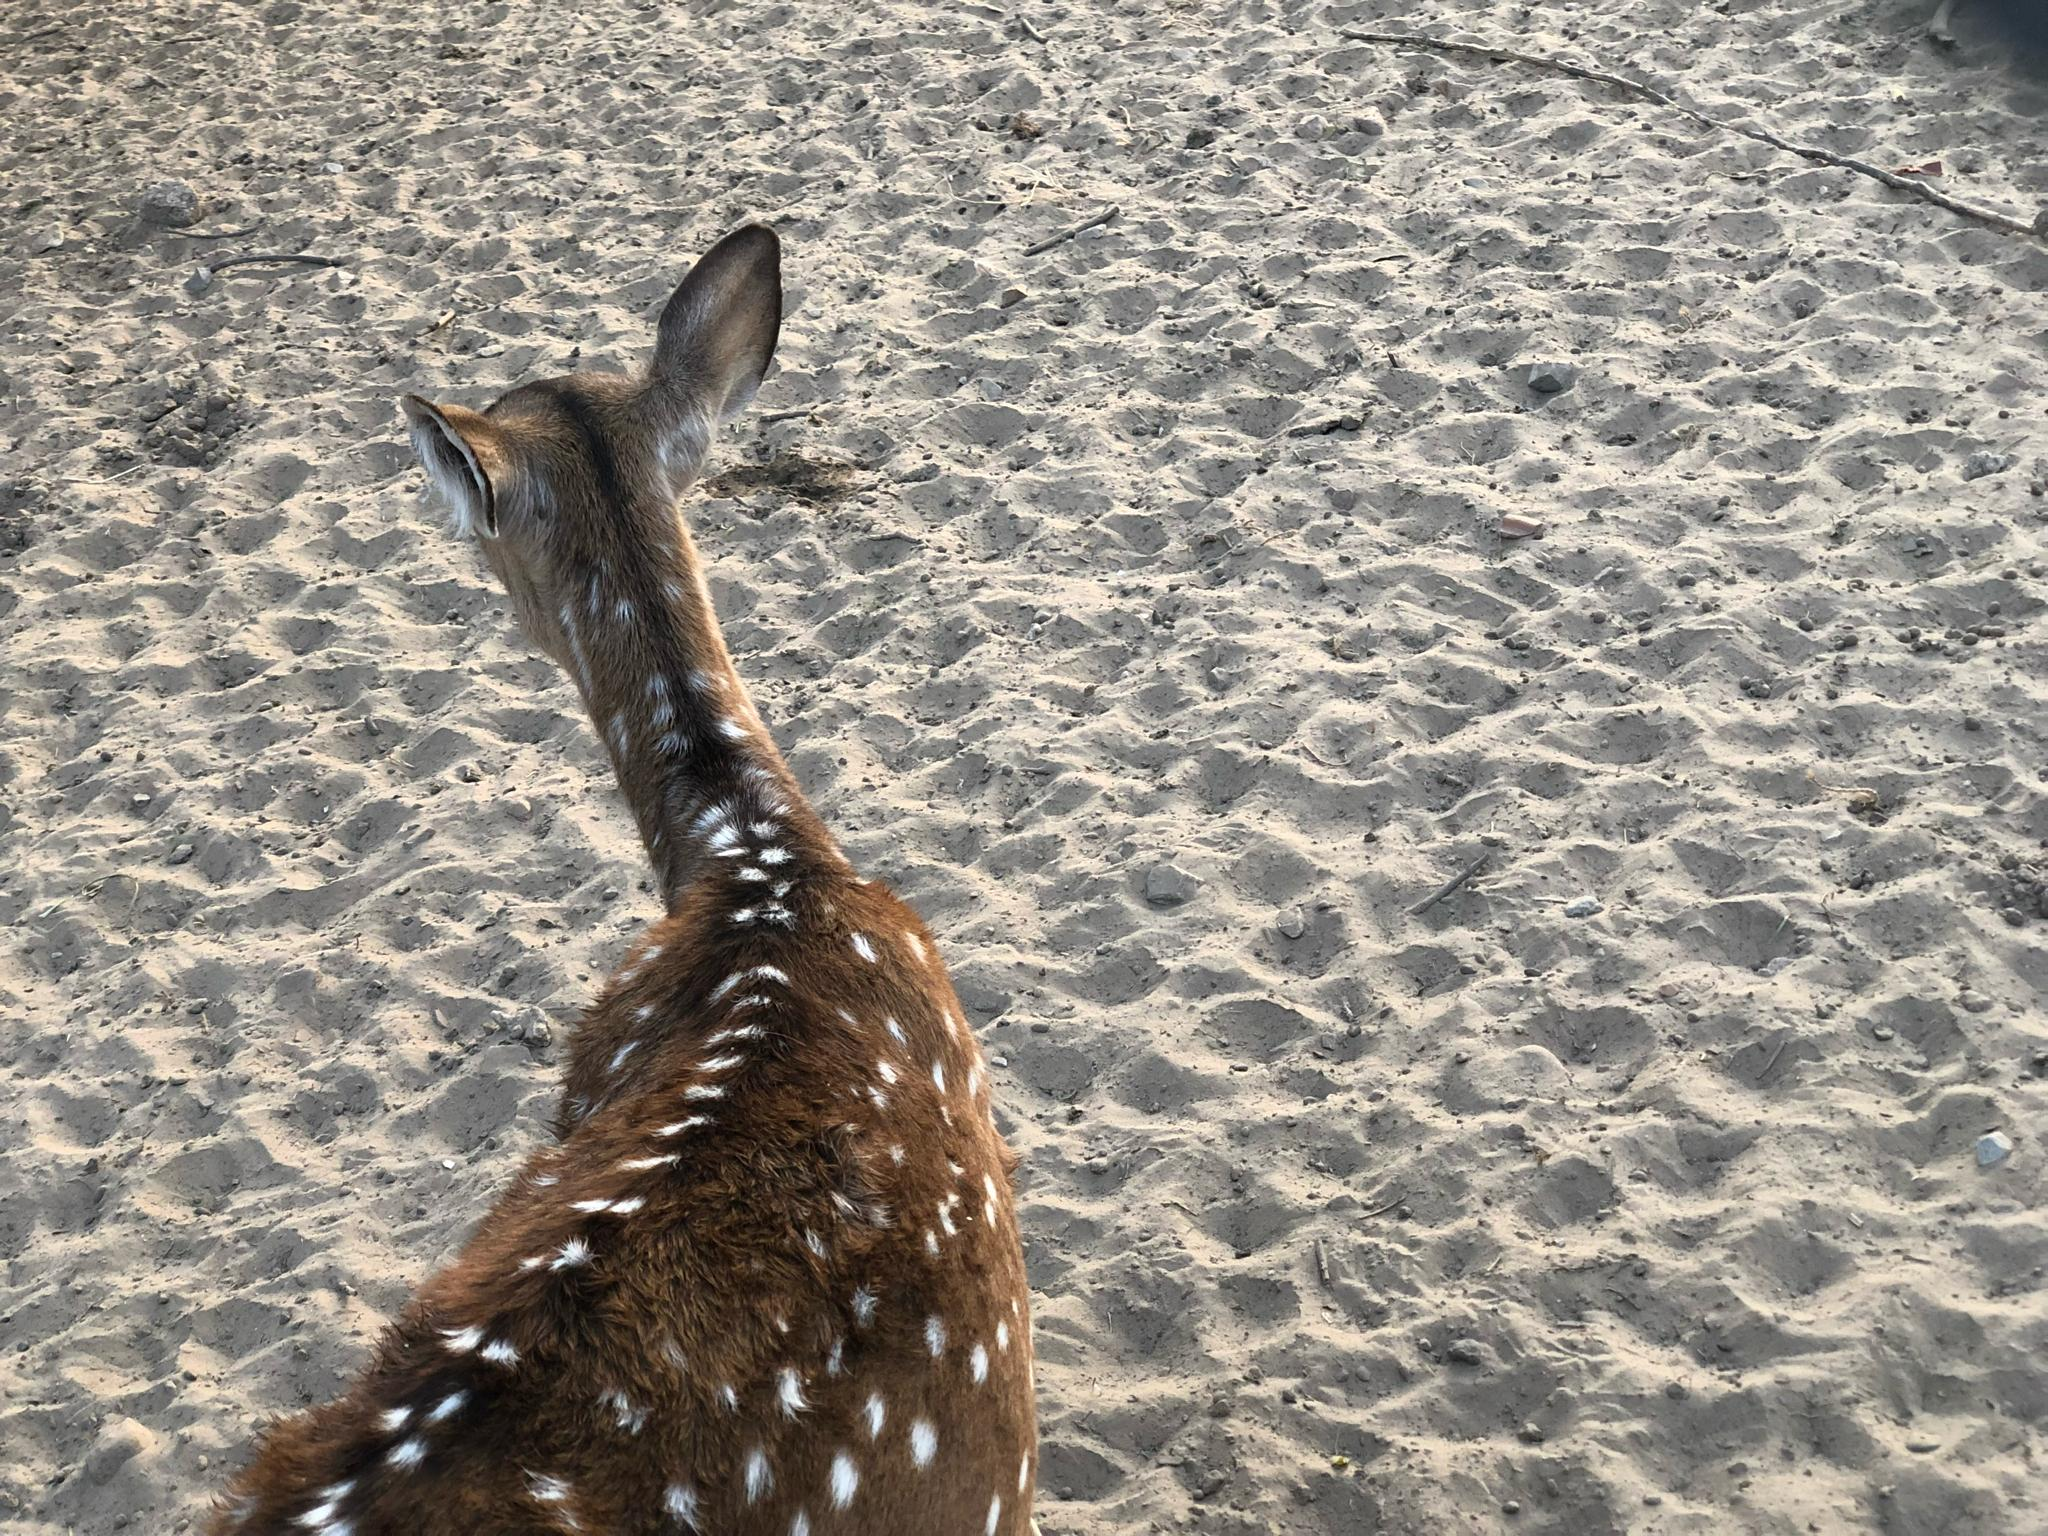Deer: (205, 224, 1035, 1534)
